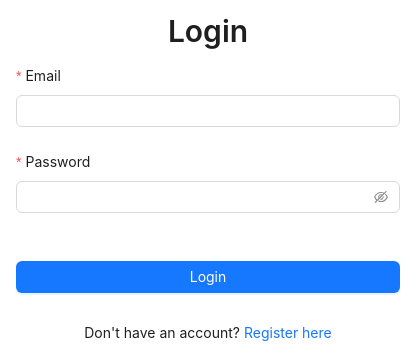
Test: Login Component › shows validation error for invalid email format
The width and height of the screenshot is (417, 358).
# Fill in an invalid email
Type "invalid-email" into the field labelled "Email" at (208, 111), box x1=16 y1=95 x2=400 y2=127
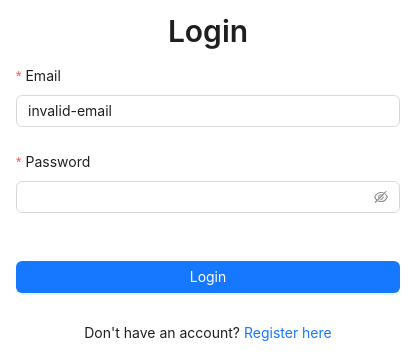
# Click the login button
Click the button "Login" at (208, 277), box x1=16 y1=261 x2=400 y2=293
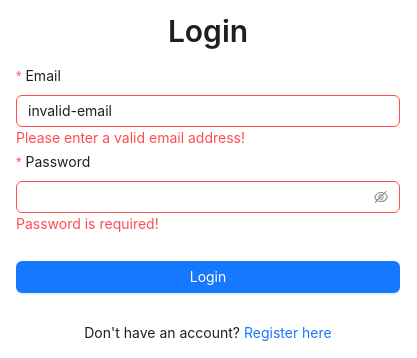
Expected: the text "Please enter a valid email address!" is shown, x1=16 y1=129 x2=245 y2=146
